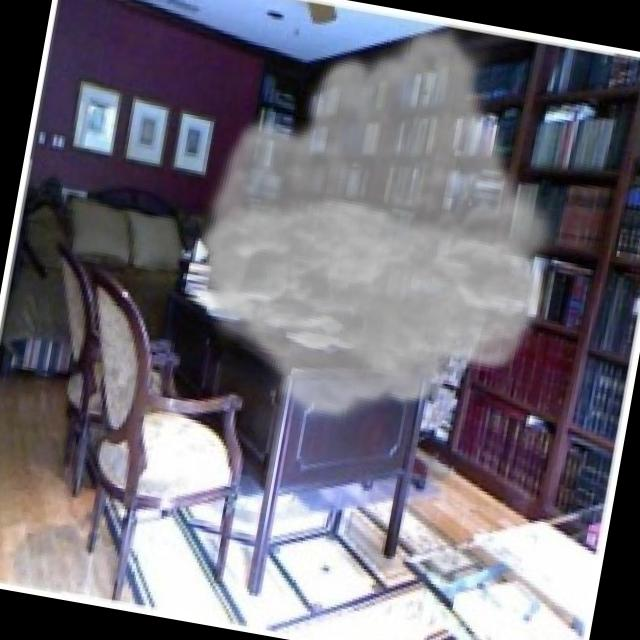Smoke: (162, 0, 598, 458)
